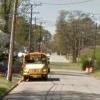buses: (22, 52, 50, 82)
